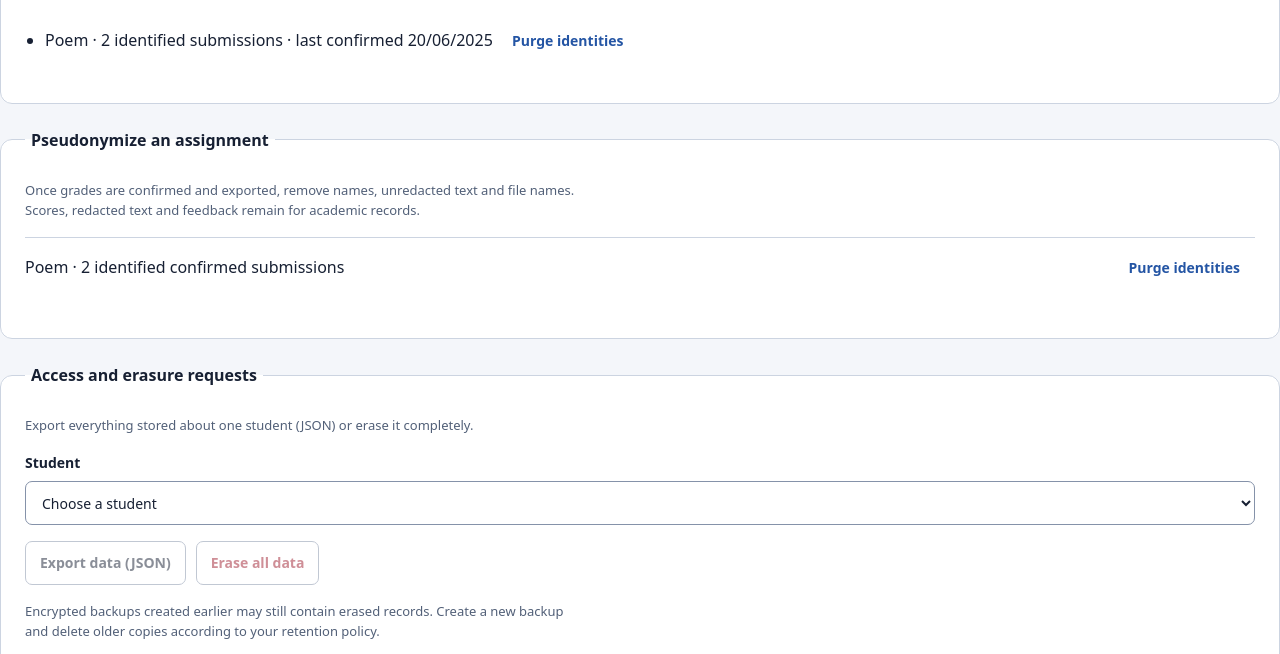
it: exports and erases one student's data
(page scrolled)
Select "Ana Pérez" in the dropdown labelled "Student" at (640, 503), box [25,481,1255,525]
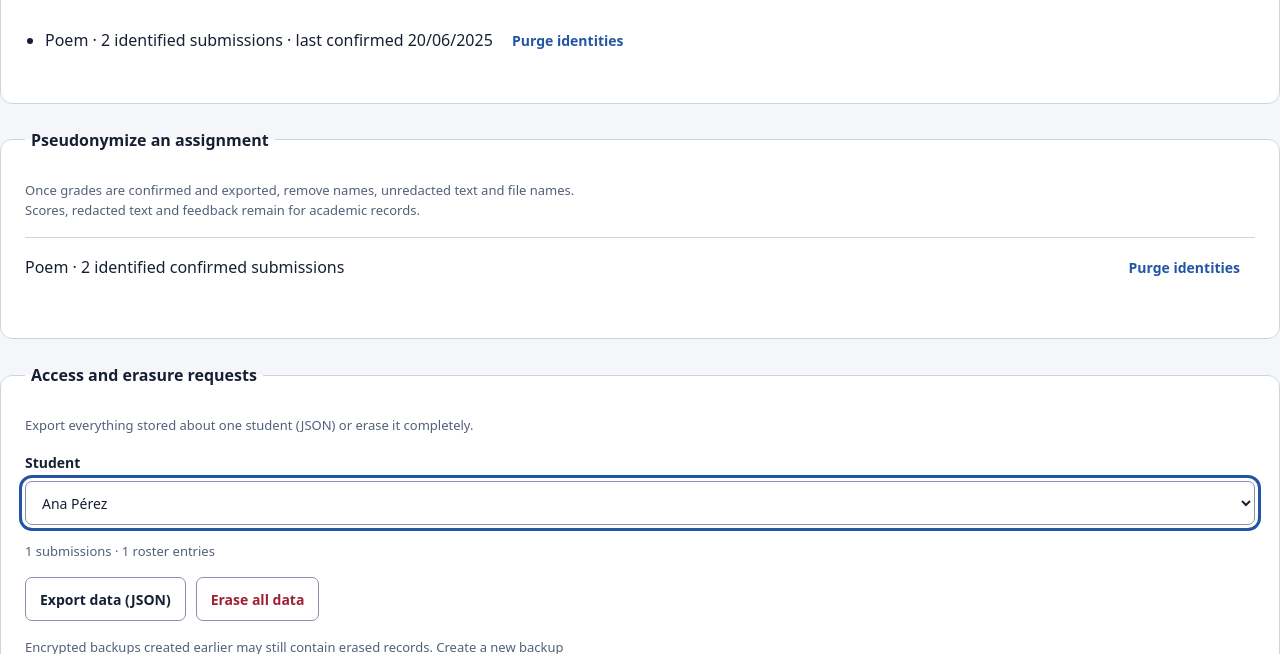
Result: the text "1 submissions · 1 roster entries" is shown at [25,542,215,560]
Click the button "Export data (JSON)" at (105, 599), box [25,577,186,621]
(page scrolled)
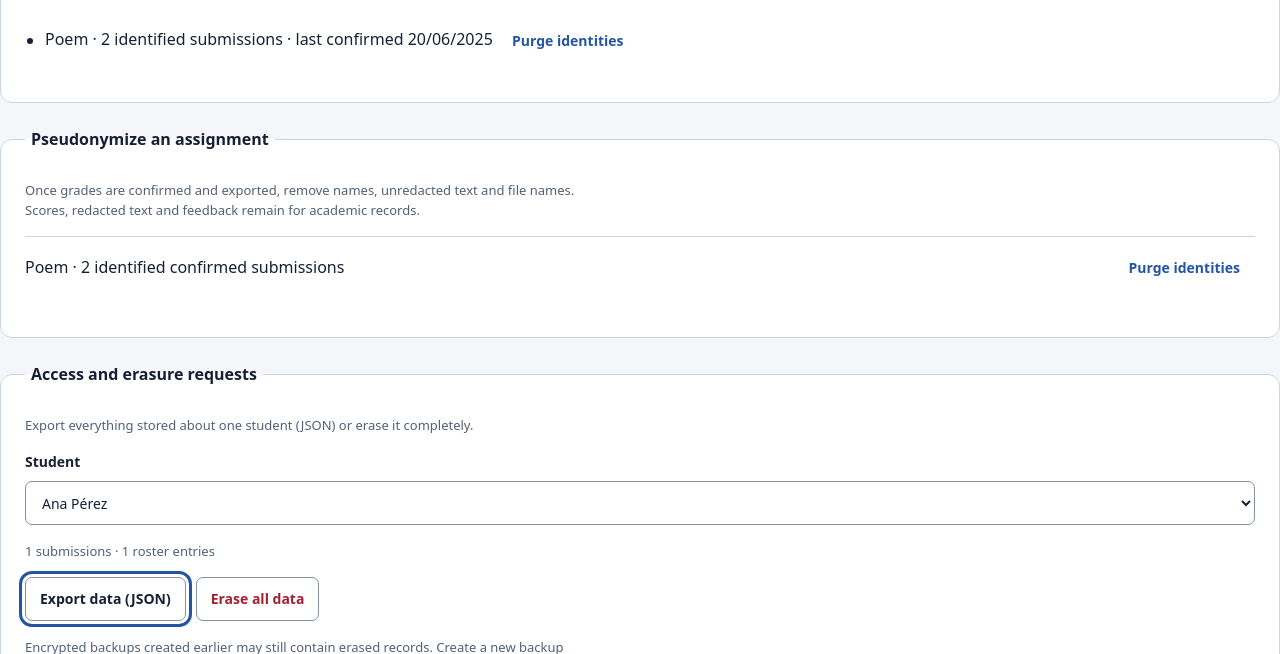
Click the button "Erase all data" at (258, 599), box [196,577,319,621]
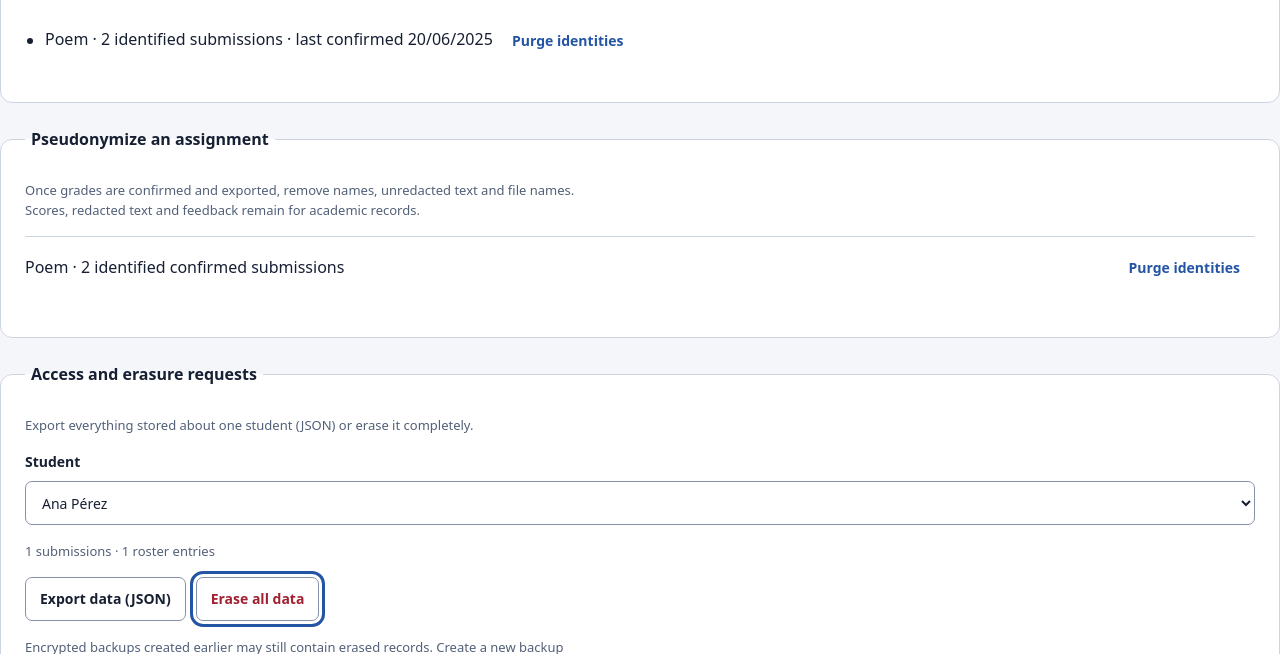
Click the button "Erase all data" at (258, 599), box [196,577,319,621]
(page scrolled)
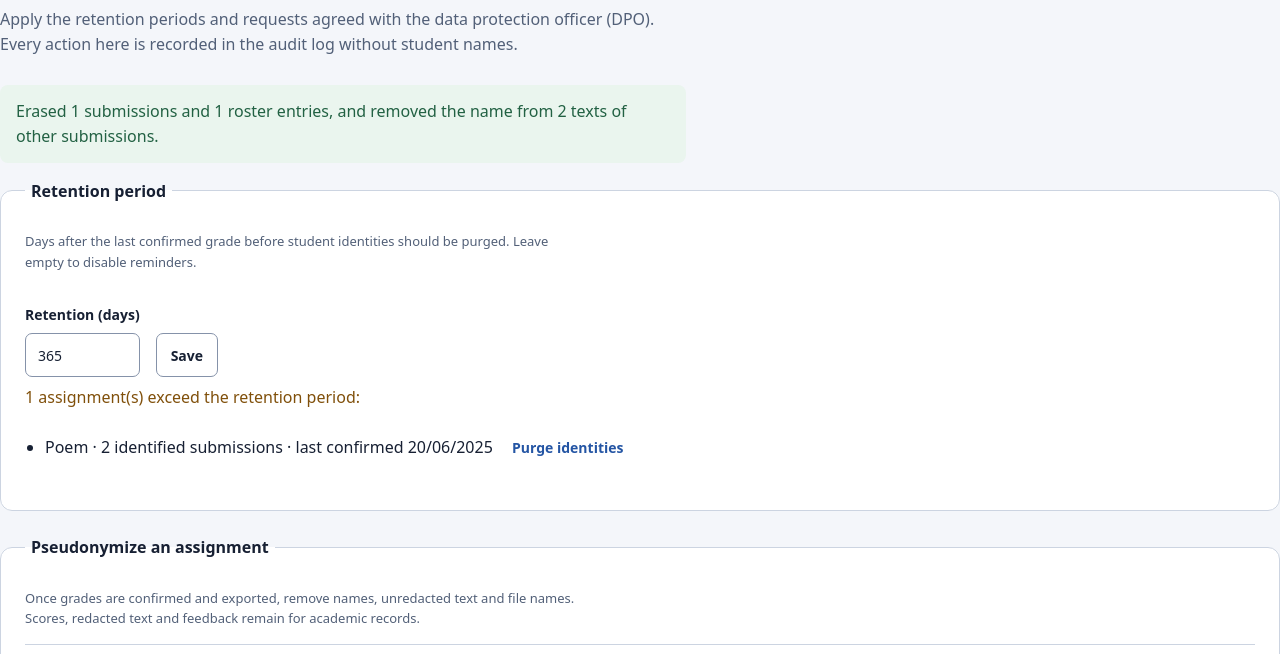
Result: the text "removed the name from 2 texts of other submissions" is shown at [16,100,627,147]
